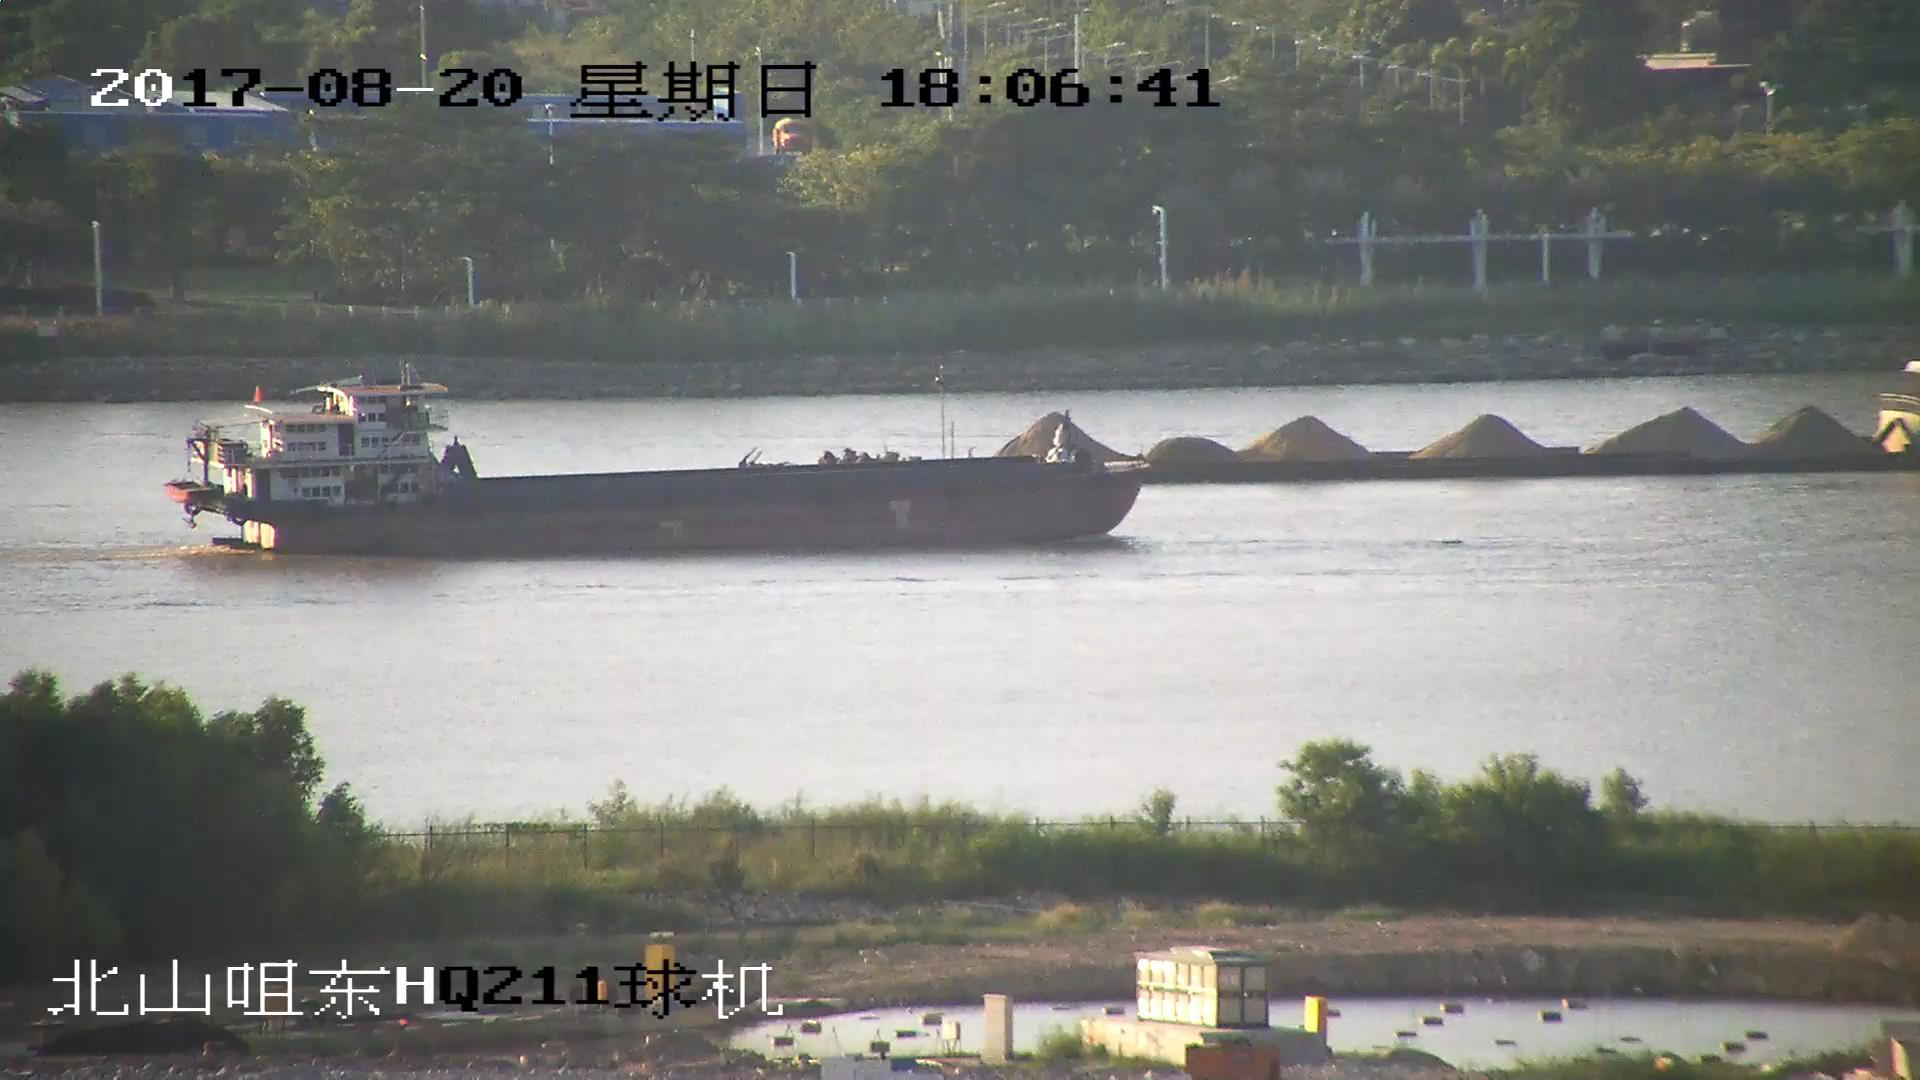Ship: (173, 382, 1153, 555), (752, 360, 1920, 483)
